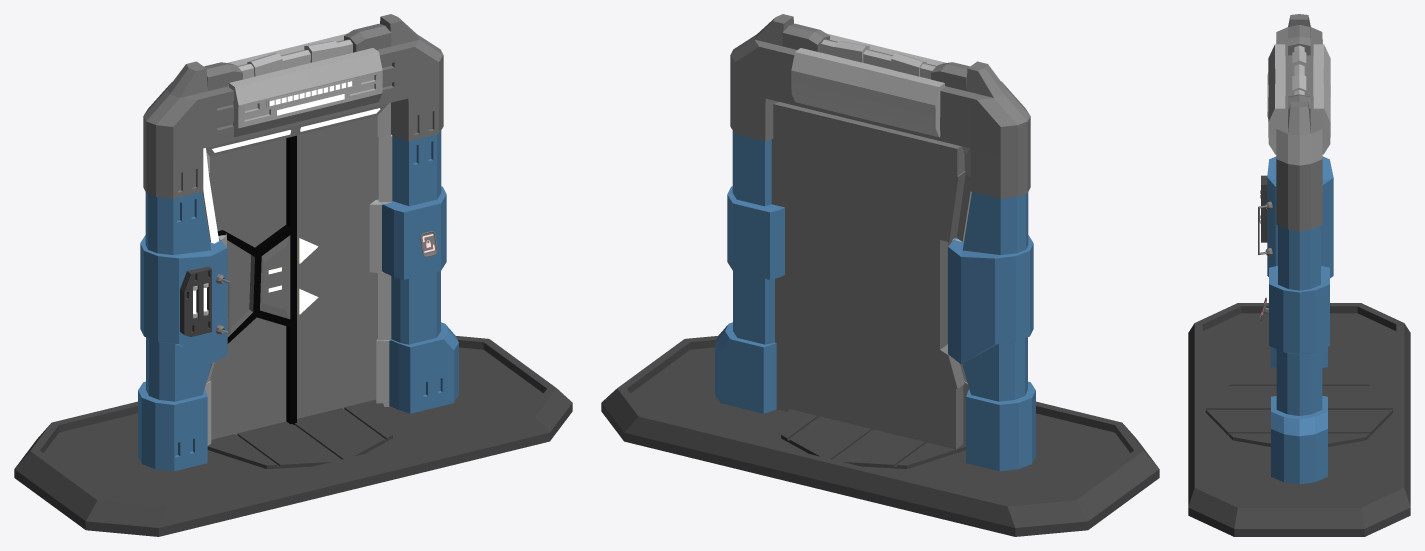
Rendered from portal_automatico.glb.
The picture shows the model from 3 angles, left to right: view 1: azimuth 30°, elevation 25°; view 2: azimuth 150°, elevation 25°; view 3: azimuth 270°, elevation 25°; orthographic projection. The views are drawn at different scales.
Visible parts, largest first — view 1: Cube.001_1, Door_7, Cube_0, Cube.002_2, Circle_4, Cube.009_6, Cube.012_9, Cube.020_18; view 2: Door_7, Cube.001_1, Cube_0, Cube.002_2, Circle_4, Cube.009_6; view 3: Cube_0, Cube.001_1, Circle_4, Cube.002_2, Cube.012_9.
Boxes of the visible parts, x1=… form: Cube.001_1: x1=138, y1=14, x2=458, y2=471; Door_7: x1=209, y1=116, x2=378, y2=439; Cube_0: x1=14, y1=336, x2=572, y2=536; Cube.002_2: x1=227, y1=33, x2=382, y2=136; Circle_4: x1=207, y1=399, x2=392, y2=468; Cube.009_6: x1=202, y1=103, x2=392, y2=445; Cube.012_9: x1=180, y1=266, x2=211, y2=336; Cube.020_18: x1=203, y1=148, x2=218, y2=243; Door_7: x1=771, y1=102, x2=965, y2=449; Cube.001_1: x1=715, y1=14, x2=1035, y2=471; Cube_0: x1=601, y1=336, x2=1159, y2=536; Cube.002_2: x1=791, y1=33, x2=946, y2=137; Circle_4: x1=781, y1=409, x2=965, y2=468; Cube.009_6: x1=947, y1=146, x2=971, y2=445; Cube_0: x1=1188, y1=303, x2=1410, y2=536; Cube.001_1: x1=1267, y1=14, x2=1333, y2=484; Circle_4: x1=1205, y1=373, x2=1393, y2=446; Cube.002_2: x1=1268, y1=44, x2=1330, y2=154; Cube.012_9: x1=1261, y1=175, x2=1267, y2=242.
Size of the model in its own units: 8.73 by 6.89 by 3.78.
6 materials, 1 textured.
